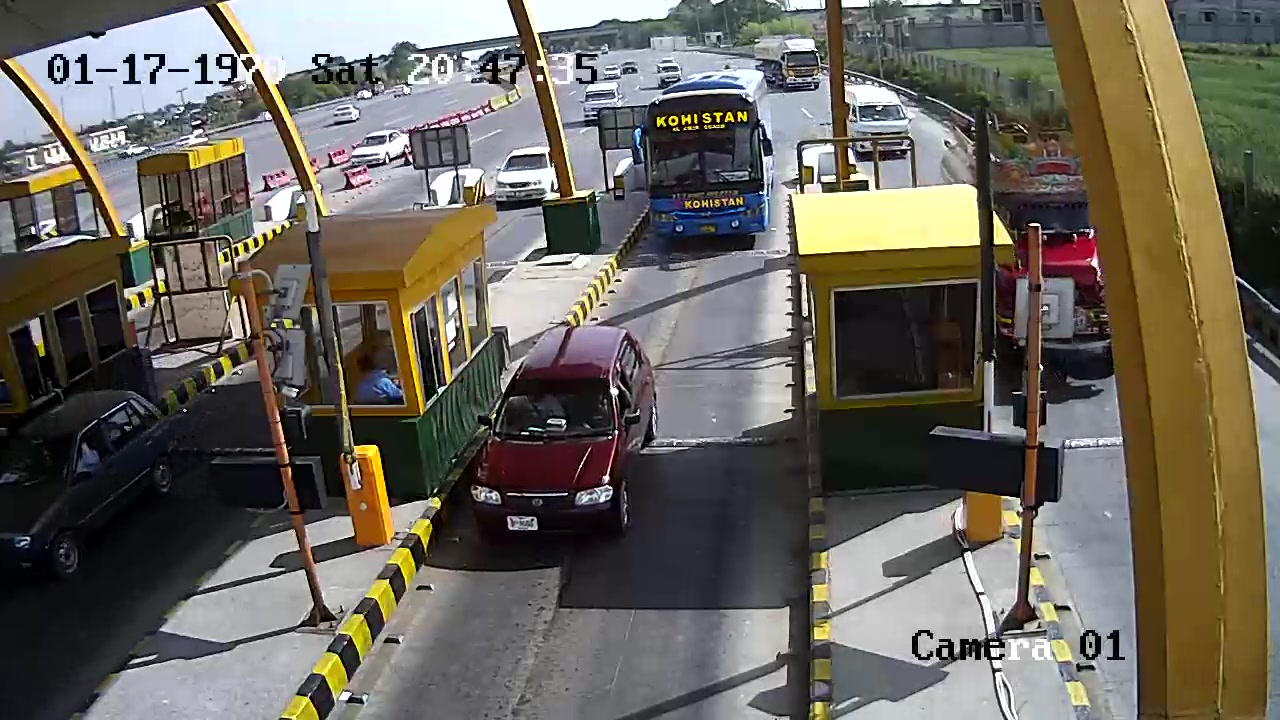F4: (654, 64, 771, 247)
